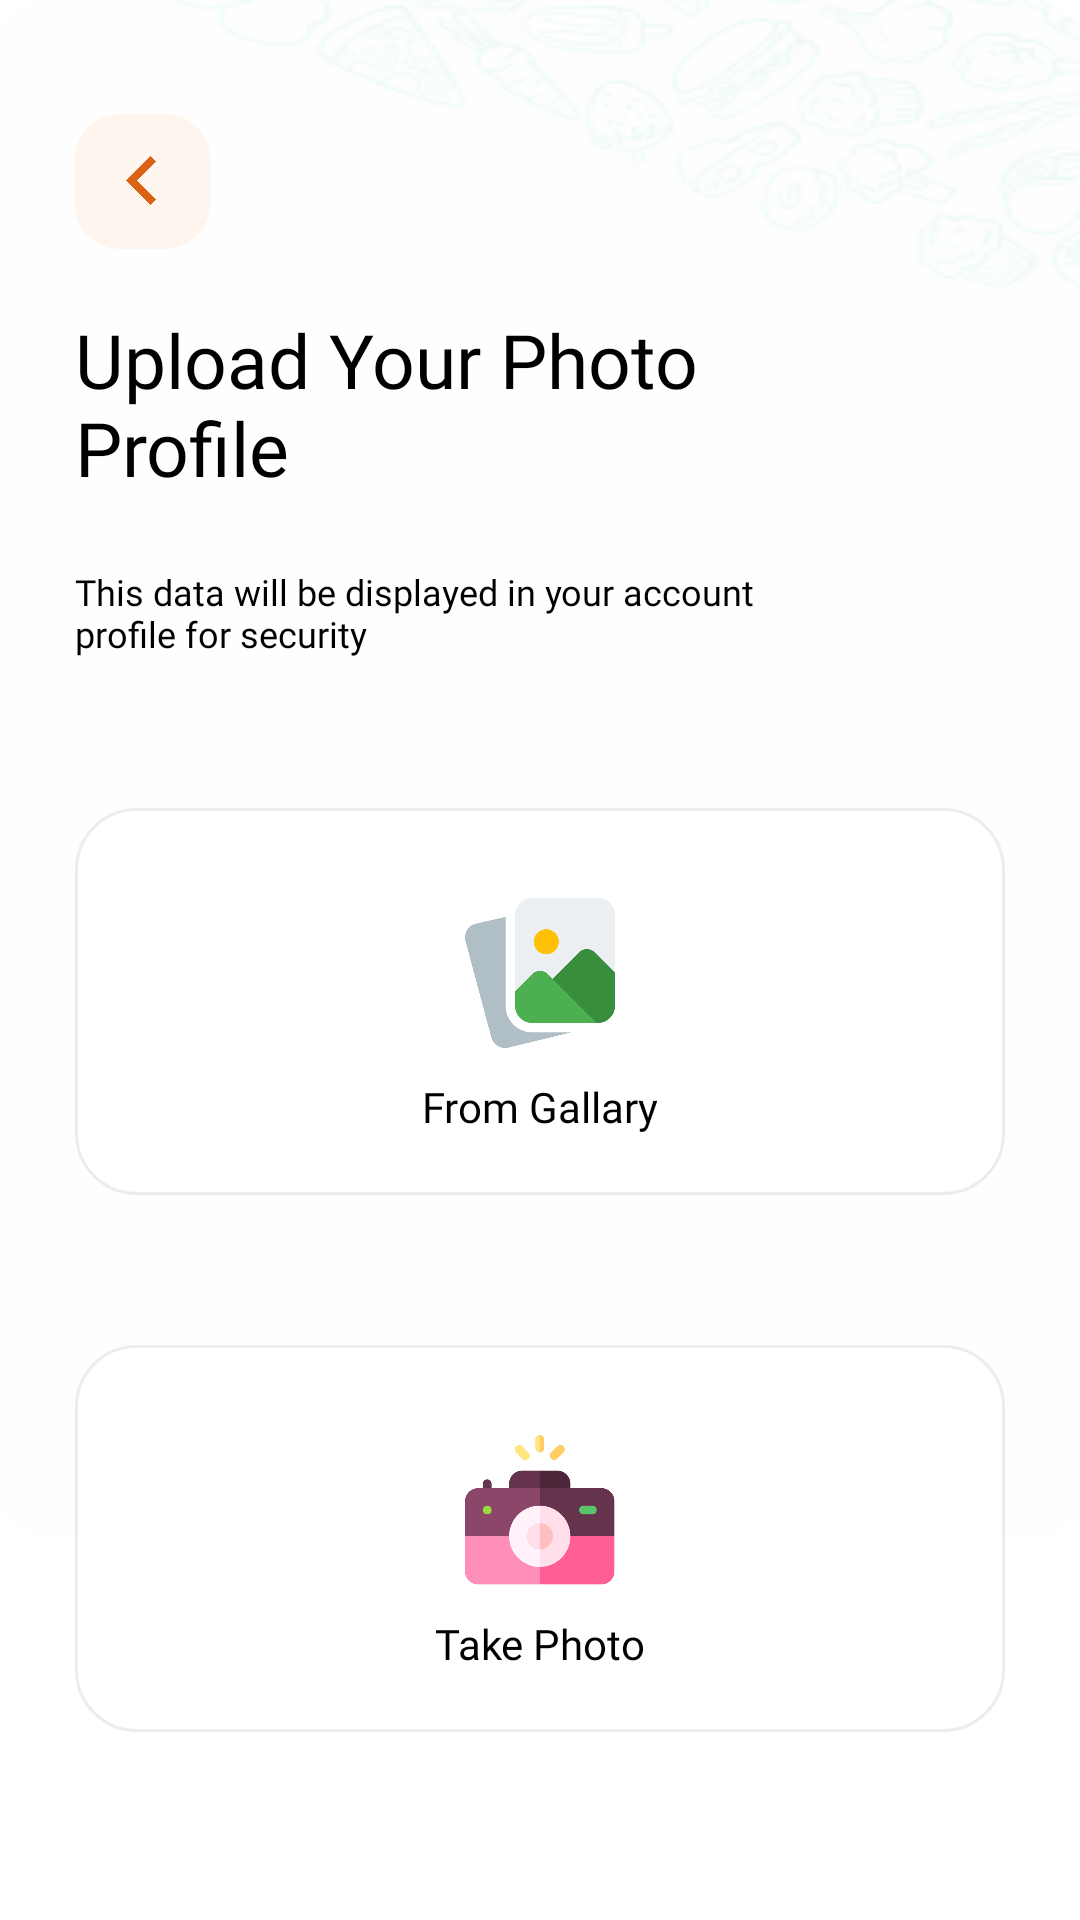

Screen size 1080px×1920px. Icon name, then its center in pixels as (x,y):
backicon: (142,181)
camera: (540,1510)
